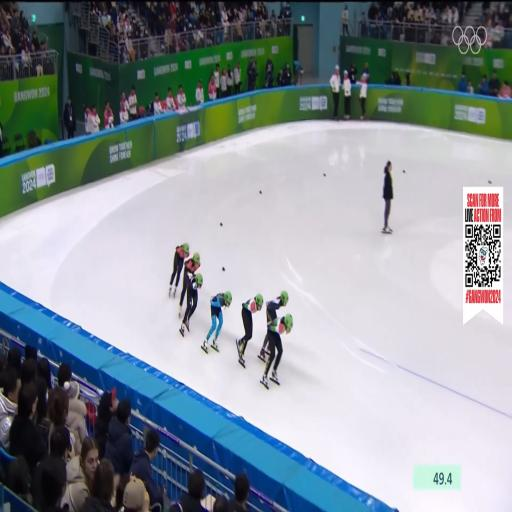Skater: (261, 314, 293, 388), (237, 294, 263, 367), (202, 292, 232, 353), (180, 273, 203, 336), (179, 253, 200, 317), (169, 243, 189, 297), (266, 291, 288, 324)
